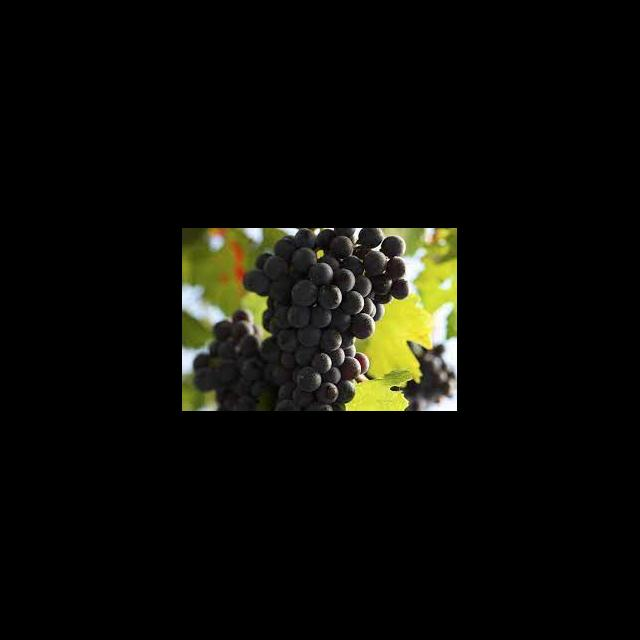grape: (247, 233, 404, 411)
